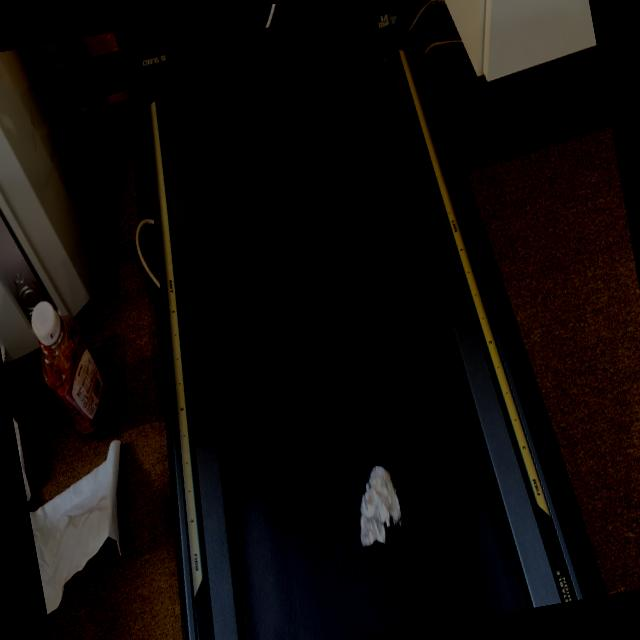Trash: (344, 451, 429, 564)
